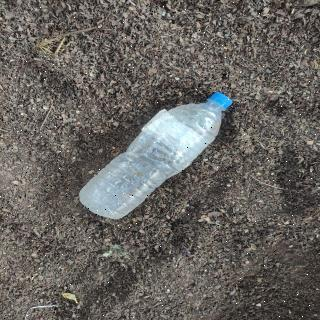Plastic-bottle: (75, 90, 240, 223)
